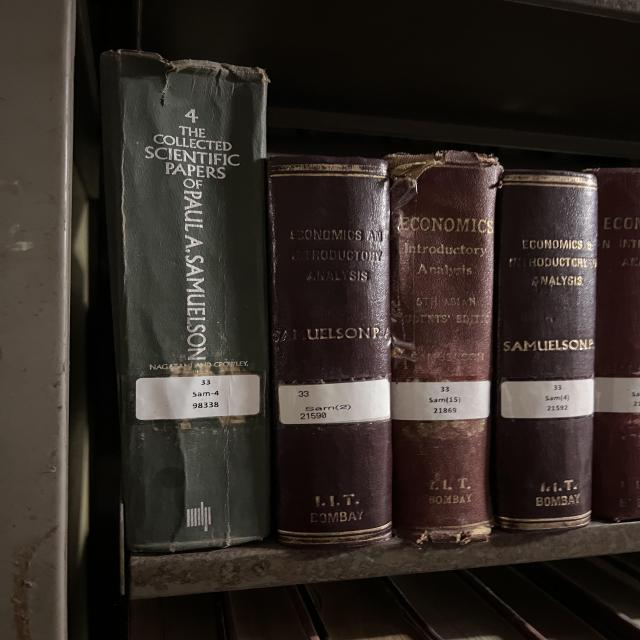Book: (102, 50, 270, 552), (268, 156, 392, 546), (387, 151, 502, 544), (493, 170, 597, 530), (587, 169, 640, 521)
Label: (135, 375, 260, 420), (278, 379, 390, 424), (392, 381, 490, 420), (500, 379, 593, 419), (595, 378, 640, 412)
